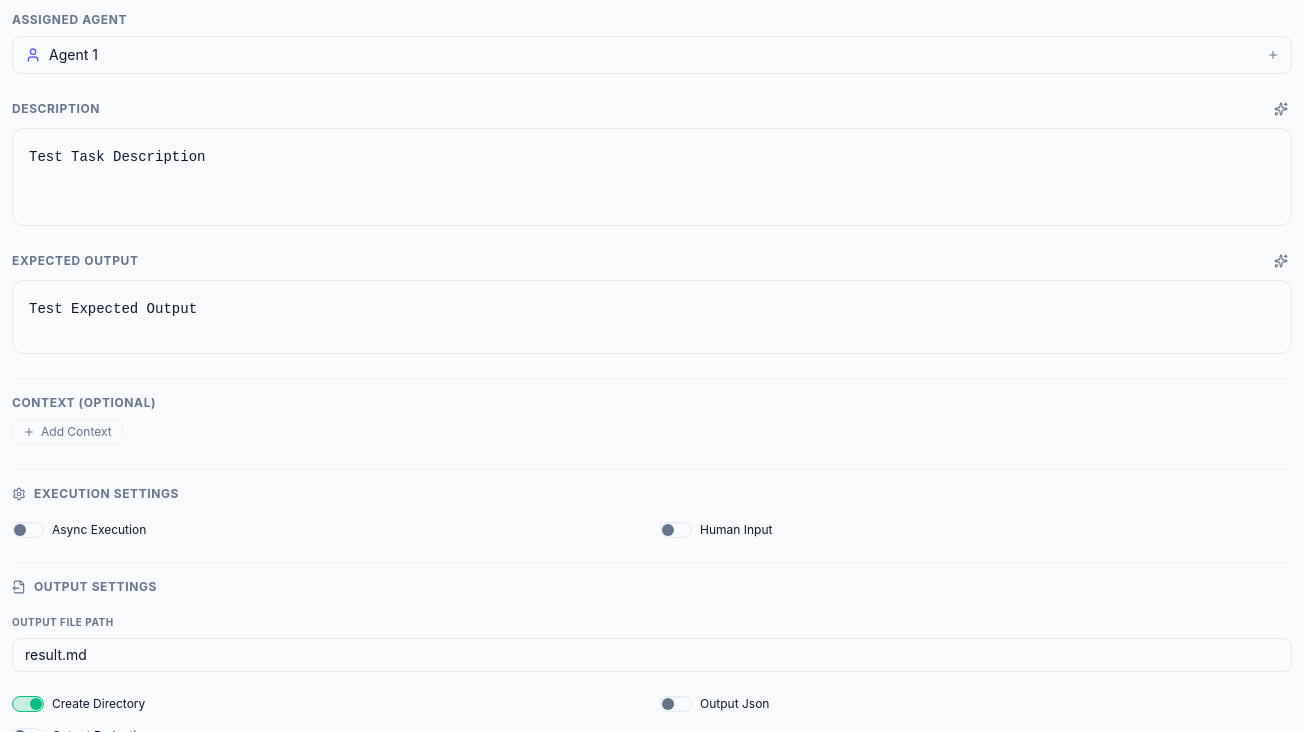
Test: TaskForm › closes Agent selector on overlay click
Click the button "Agent 1" at (73, 54), box x1=12 y1=36 x2=1292 y2=74
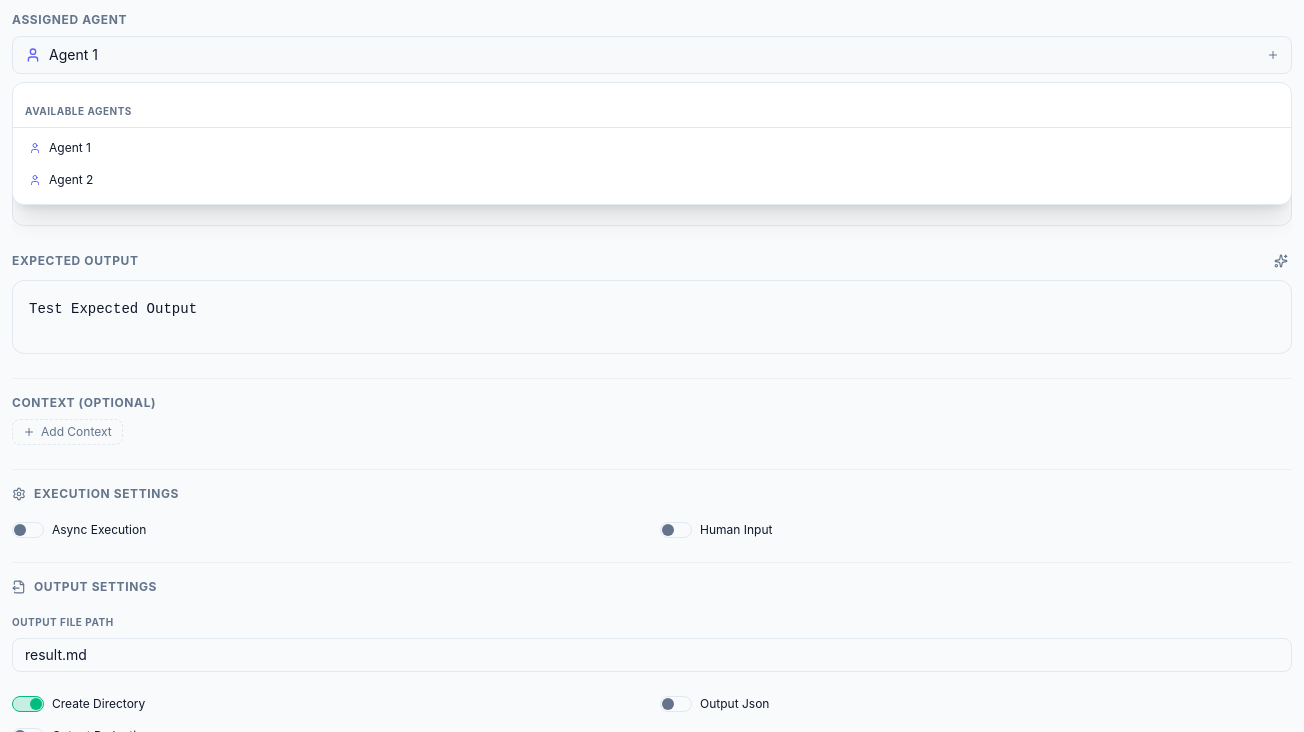
Result: the element with class "inset-0" is shown
Click the element with class "inset-0" at (652, 372), box x1=12 y1=12 x2=1292 y2=731
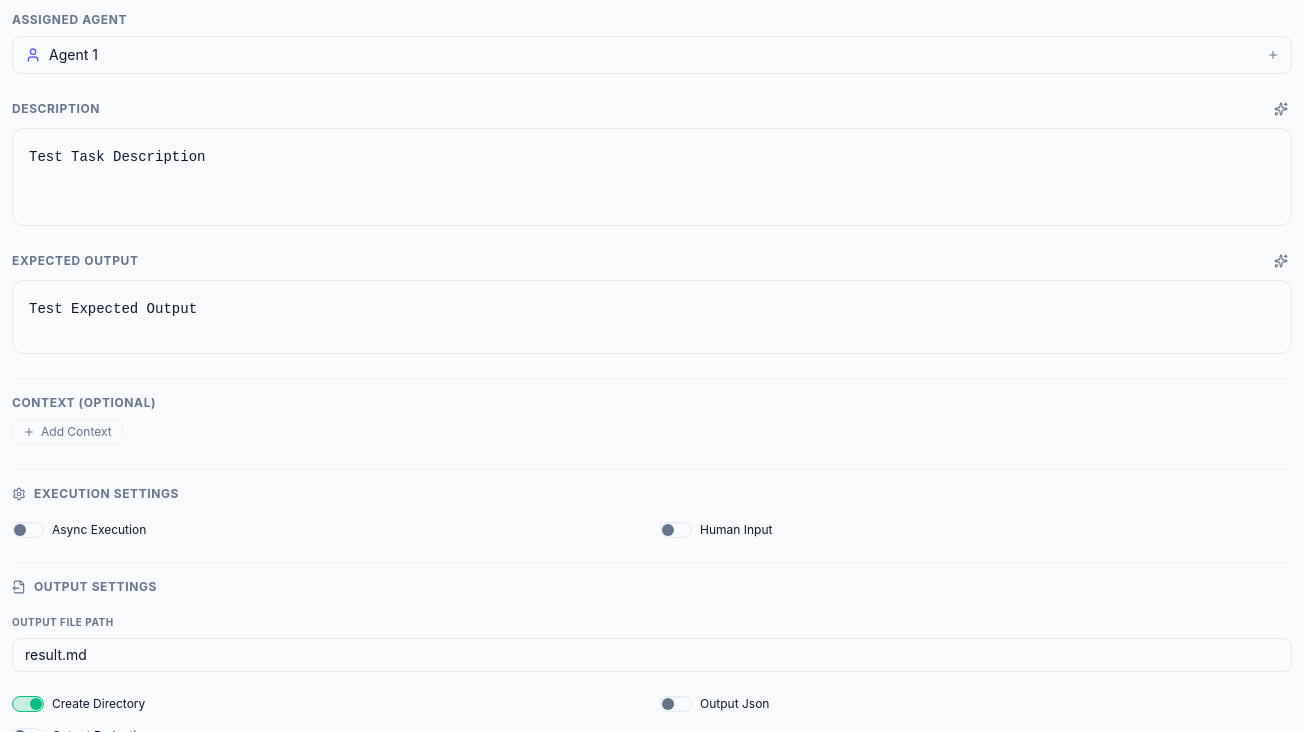
Result: the text "Available Agents" is gone
